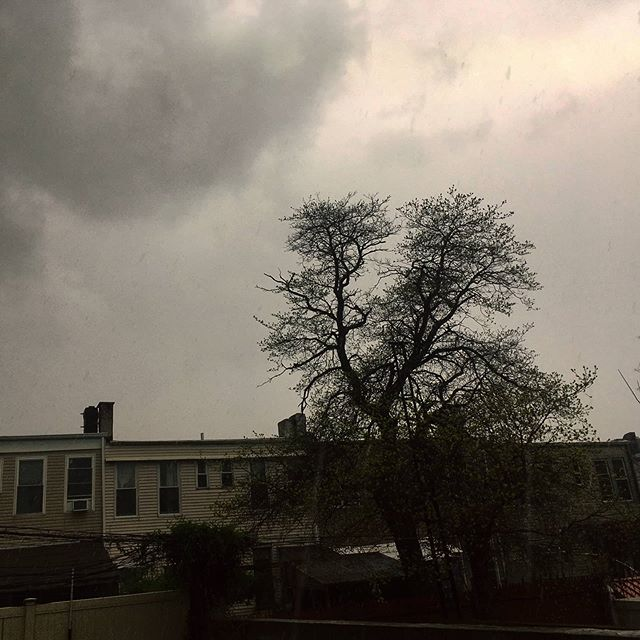building: (118, 437, 308, 583), (524, 444, 640, 572), (1, 432, 114, 552)
sky: (1, 1, 628, 421)
tree: (286, 222, 587, 640)
